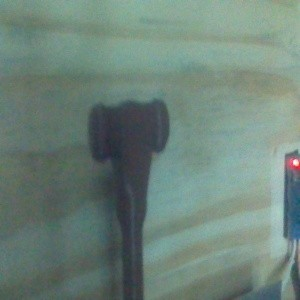palu: (86, 98, 171, 300)
